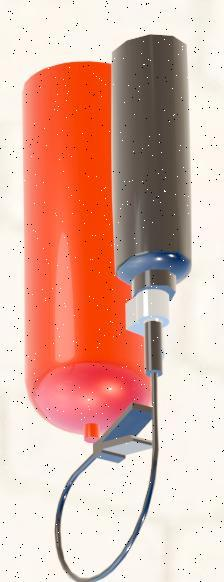Fire Extinguisher: (17, 27, 207, 582)
